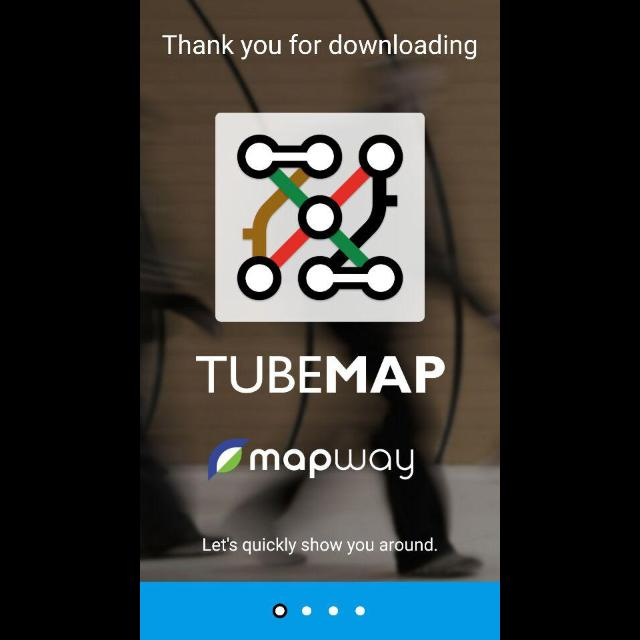backgroundimage: (140, 1, 500, 582)
image: (215, 113, 425, 323), (208, 438, 414, 480)
pageindicator: (272, 603, 366, 619)
text: (197, 356, 446, 394), (162, 34, 476, 60), (203, 537, 437, 555)
